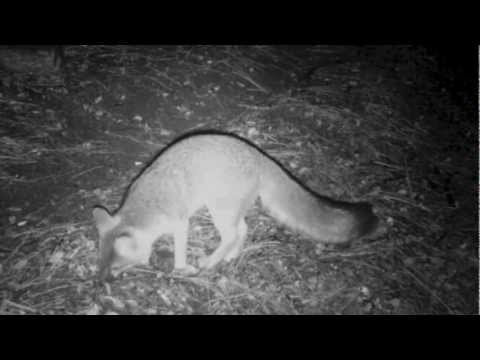fox: (82, 124, 387, 286)
